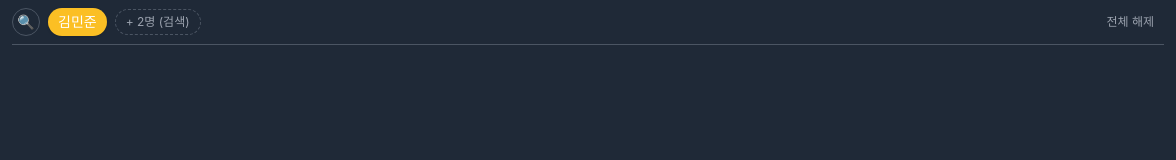
Test case: StudentFilterChipBar › variant=active-only (P3) › 검색어 입력 시 매칭 학생 chip 추가 표시
The image size is (1176, 160).
Click the button named "학생 검색" at [26, 22], box top-left (12, 8), bottom-right (40, 36)
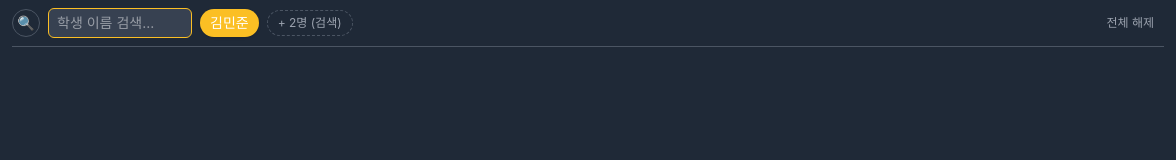
Type "이서" into the field with placeholder "학생 이름 검색..." at [120, 23], box top-left (48, 8), bottom-right (192, 38)
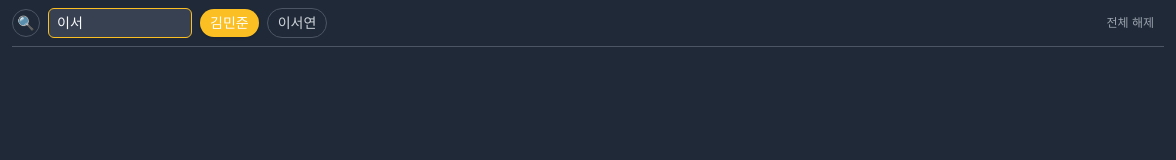
expect the text "이서연" is shown: met, box top-left (278, 13), bottom-right (316, 33)
expect the button "+ 2명 (검색)" is gone: met
